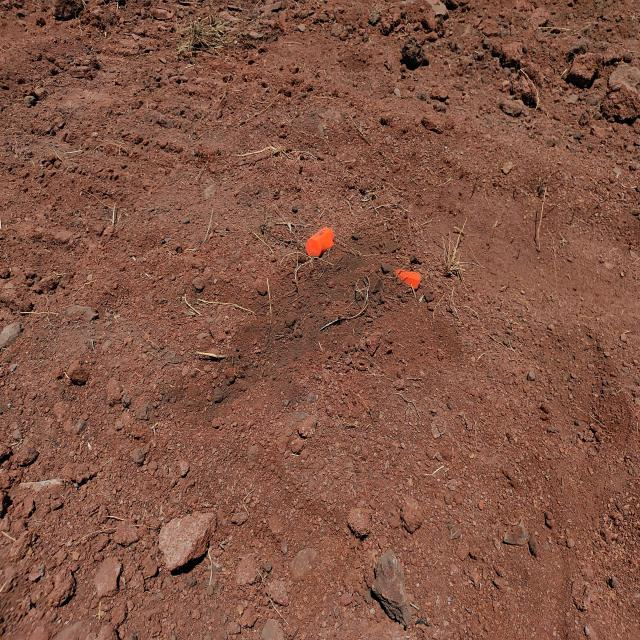Orange_hammer: (304, 228, 334, 260)
